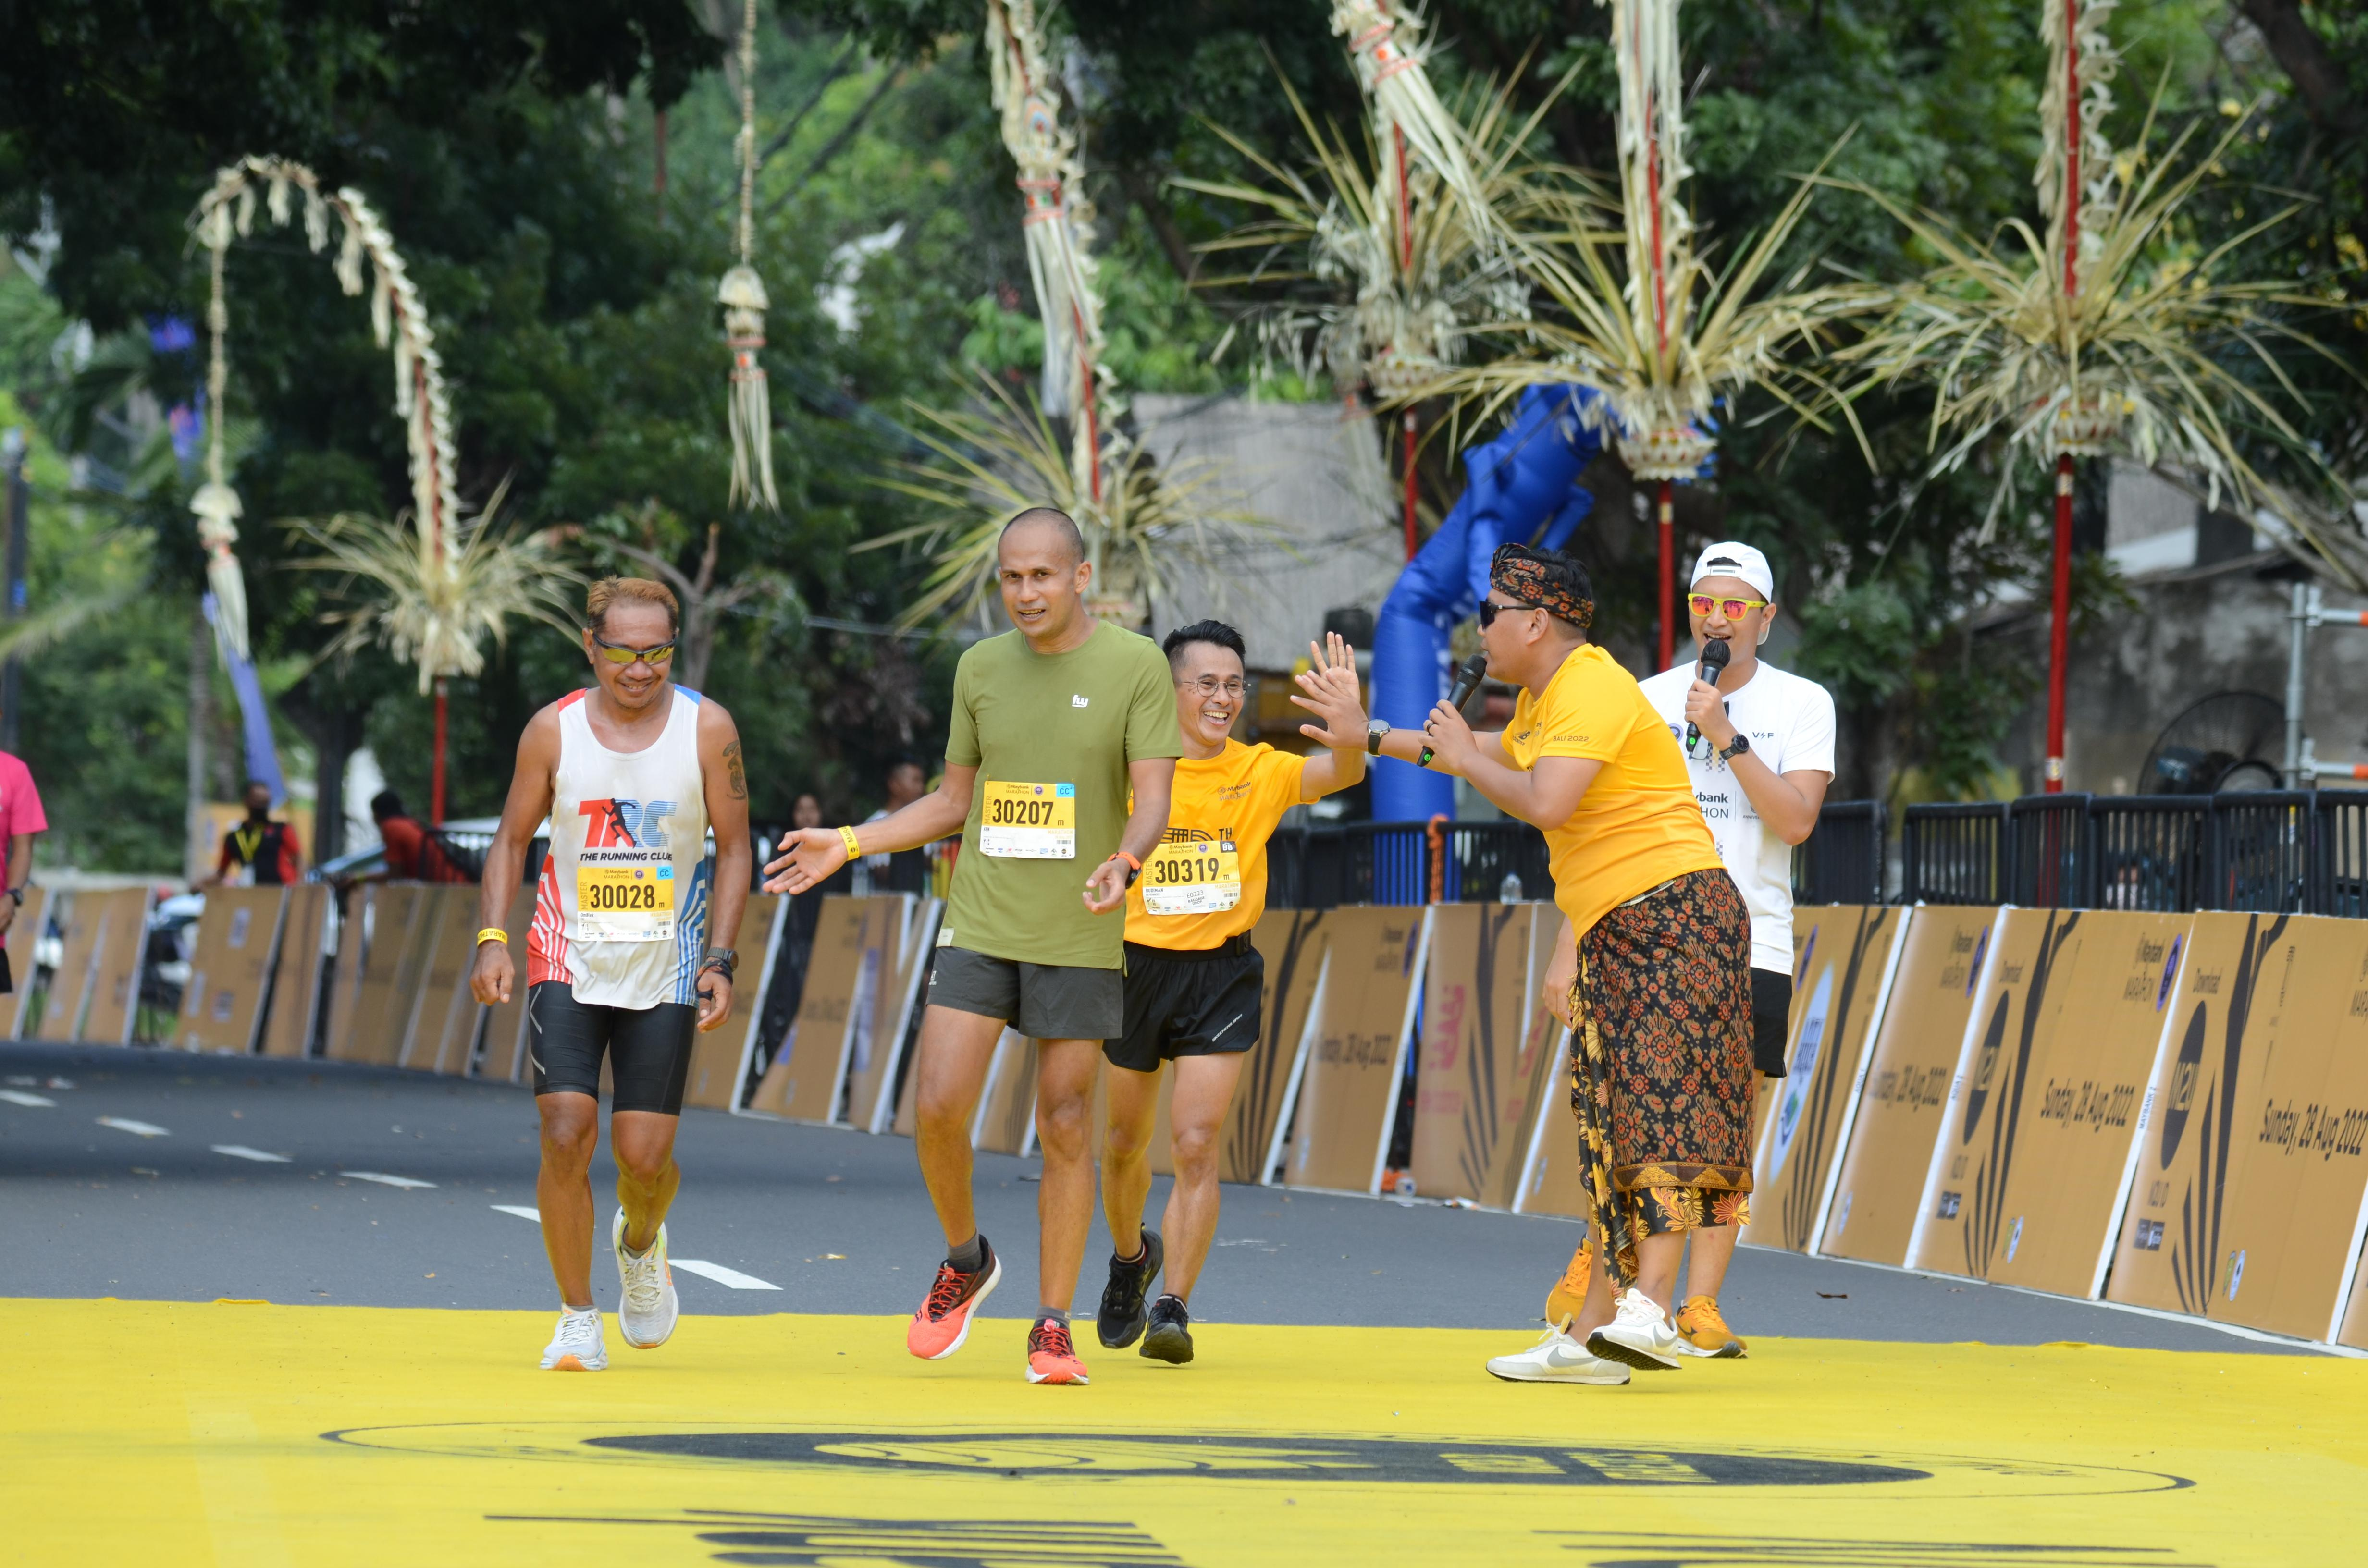bib: (578, 861, 676, 943), (982, 780, 1075, 861), (1141, 840, 1239, 912)
